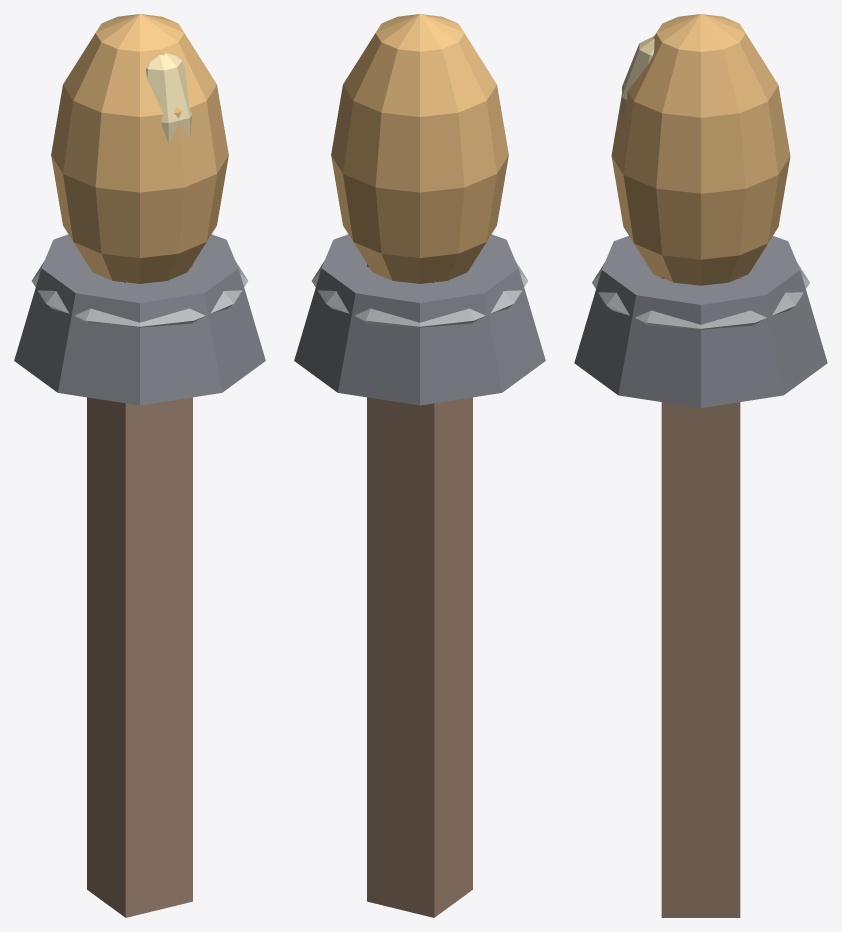
The model's file is antorcha.glb.
The picture shows the model from 3 angles, left to right: view 1: azimuth 30°, elevation 25°; view 2: azimuth 150°, elevation 25°; view 3: azimuth 270°, elevation 25°; orthographic projection.
Visible parts, largest first — view 1: antorcha; view 2: antorcha; view 3: antorcha.
Boxes of the visible parts, <box> form: antorcha: <box>14,14,265,917</box>; antorcha: <box>294,14,545,917</box>; antorcha: <box>574,14,827,917</box>.
Bounding box in the file's own units: 0.4461 × 1.75 × 0.453.
